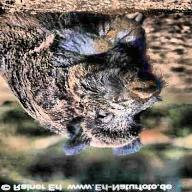boar: (0, 10, 187, 158)
